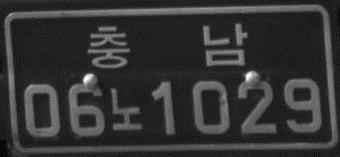0: (191, 77, 230, 135), (23, 82, 61, 139)
1: (149, 78, 178, 139)
2: (235, 77, 278, 136)
6: (66, 81, 106, 137)
9: (282, 76, 324, 135)
노: (108, 84, 146, 133)
충남_D: (85, 21, 249, 70)
